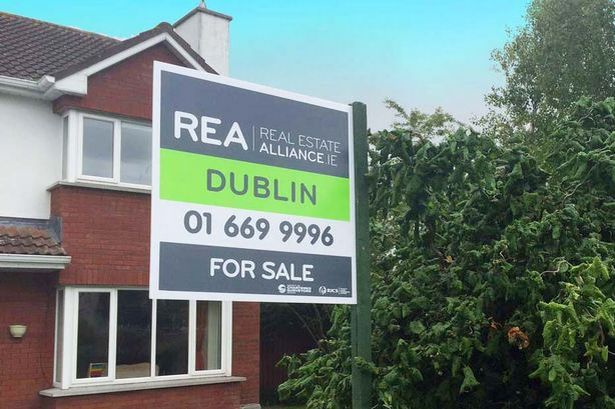property sign: (141, 49, 366, 323)
